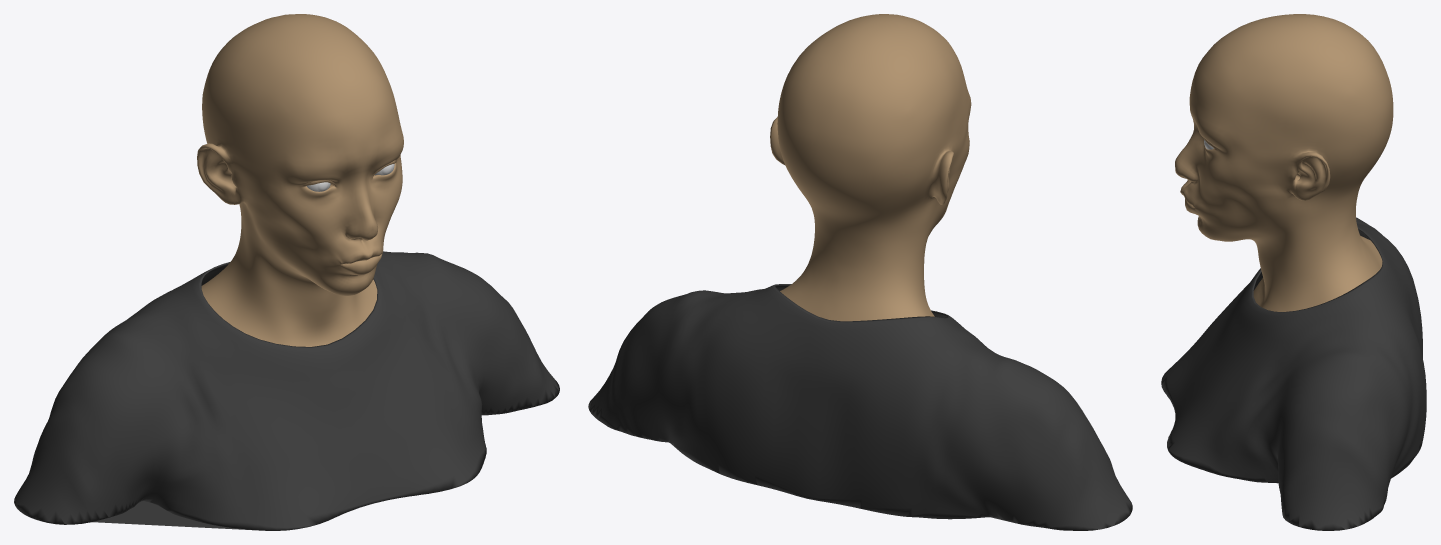
The model's file is head202.fbx.
3 views of the same model, side by side, from view 1: azimuth 30°, elevation 25°; view 2: azimuth 150°, elevation 25°; view 3: azimuth 270°, elevation 25° (orthographic). The views are drawn at different scales.
Visible parts, largest first — view 1: HG_Sweater_1_Female.002, HG_Body.002; view 2: HG_Sweater_1_Female.002, HG_Body.002; view 3: HG_Sweater_1_Female.002, HG_Body.002.
Part boxes in pixels (bbox=[...]): HG_Sweater_1_Female.002: bbox=[14, 251, 559, 530]; HG_Body.002: bbox=[197, 14, 403, 346]; HG_Sweater_1_Female.002: bbox=[588, 284, 1132, 530]; HG_Body.002: bbox=[770, 14, 971, 321]; HG_Sweater_1_Female.002: bbox=[1161, 217, 1426, 530]; HG_Body.002: bbox=[1175, 14, 1393, 311].
Size of the model in its own units: 7.36 by 5.64 by 3.48.
